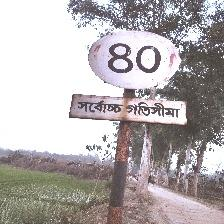Speed-limit: (71, 29, 186, 127)
